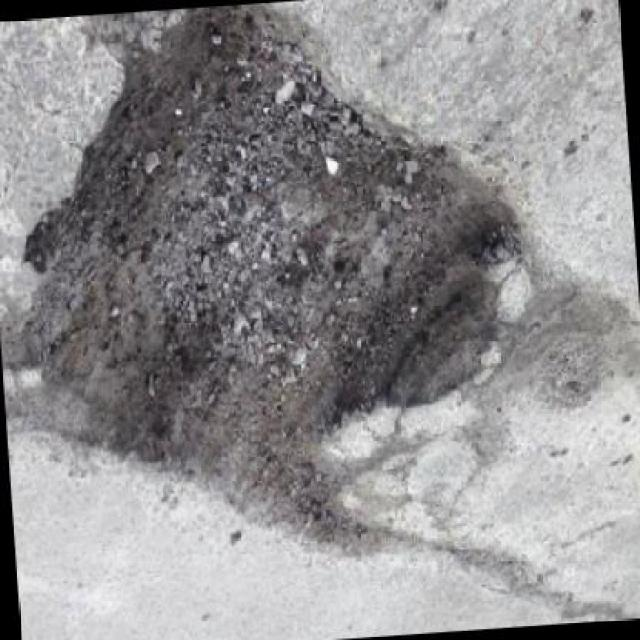pothole1: (0, 0, 546, 575)
